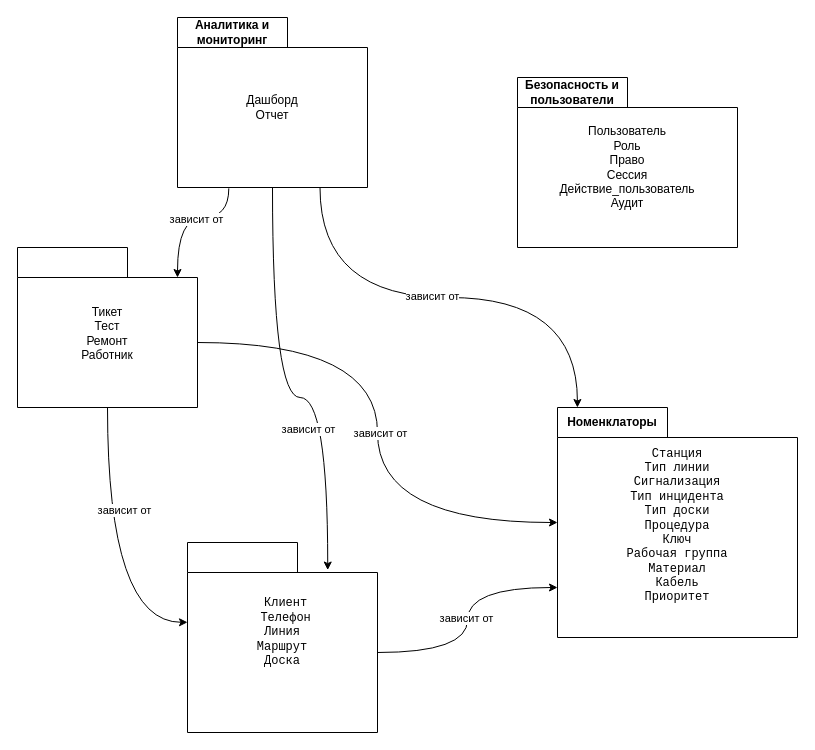
Some shapes in this 815 by 750 pixel diagram are drawn without their labels. Each missing label, with the centre of its shape:
"Управление жалобами" belongs at (x=107, y=327).
"Управление клиентами" belongs at (x=282, y=637).
